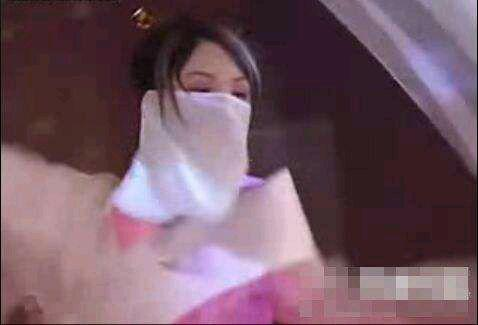OK: (167, 67, 255, 163)
